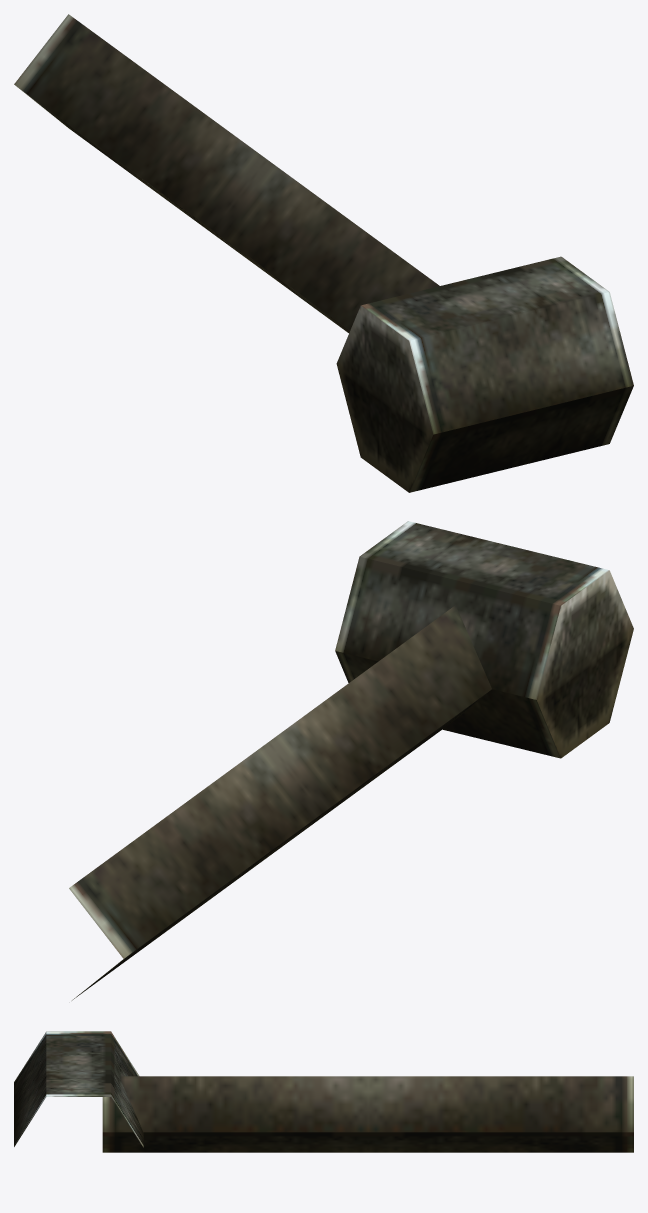
Rendered from FootholdLeft.gltf.
The picture shows the model from 3 angles, top to bottom: view 1: azimuth 30°, elevation 25°; view 2: azimuth 150°, elevation 25°; view 3: azimuth 270°, elevation 25°; orthographic projection. The views are drawn at different scales.
Parts seen in each view (by area): view 1: FootholdLeftMesh; view 2: FootholdLeftMesh; view 3: FootholdLeftMesh.
Part boxes in pixels (x1=…): FootholdLeftMesh: x1=14, y1=14, x2=633, y2=492; FootholdLeftMesh: x1=69, y1=521, x2=633, y2=1000; FootholdLeftMesh: x1=14, y1=1031, x2=633, y2=1152.
Bounding box in the file's own units: 0.1995 × 0.1445 × 0.7987.
Materials: 1 (1 with a texture image).
